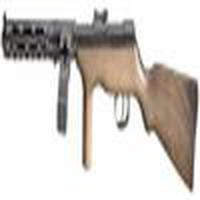gun: (1, 12, 197, 128)
